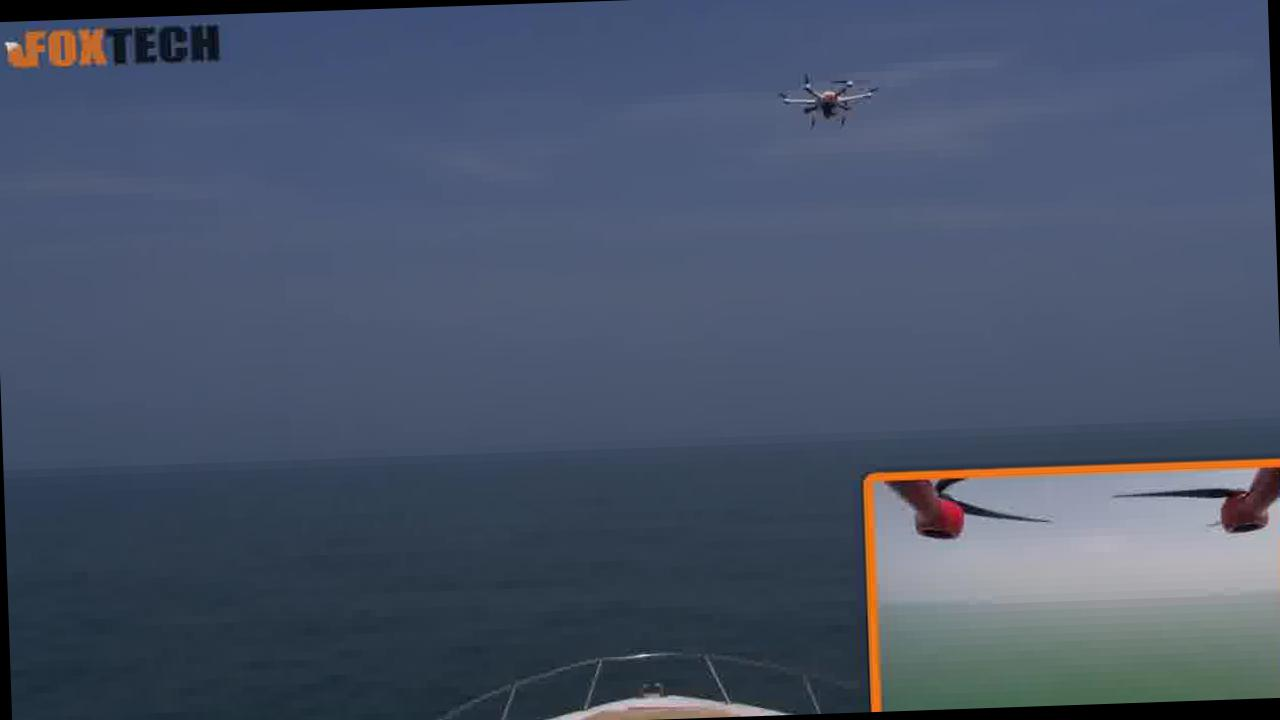drone: (764, 57, 878, 144)
